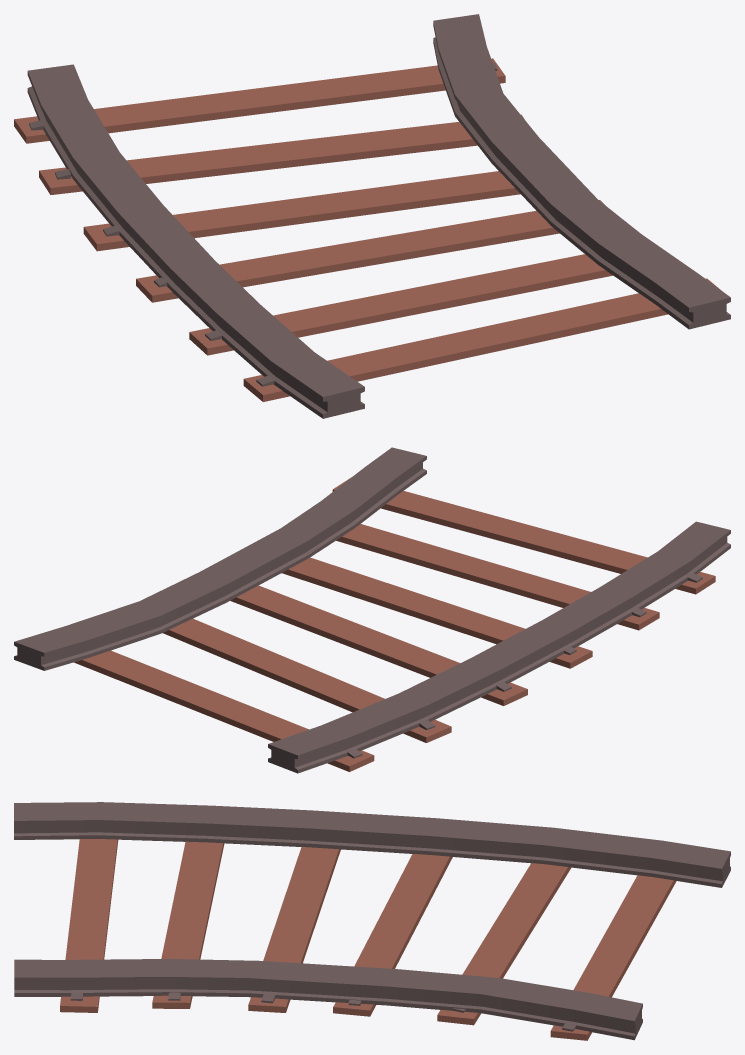
The model's file is Trilho_Curva_Menor_Direita.fbx.
The picture shows the model from 3 angles, top to bottom: view 1: azimuth 30°, elevation 25°; view 2: azimuth 150°, elevation 25°; view 3: azimuth 270°, elevation 25°; orthographic projection. The views are drawn at different scales.
Visible parts, largest first — view 1: Trilho_Curva_Menor_Direita; view 2: Trilho_Curva_Menor_Direita; view 3: Trilho_Curva_Menor_Direita.
Boxes of the visible parts, left/top/right/bottom form: Trilho_Curva_Menor_Direita: left=14, top=14, right=730, bottom=418; Trilho_Curva_Menor_Direita: left=14, top=447, right=730, bottom=773; Trilho_Curva_Menor_Direita: left=14, top=802, right=730, bottom=1040.
Size of the model in its own units: 3.35 by 2.51 by 0.1294.
